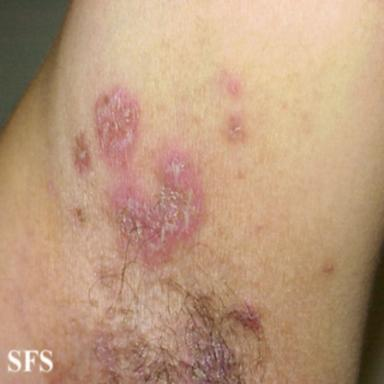Hailey-Hailey-Disease: (68, 78, 209, 291), (91, 293, 265, 384)
